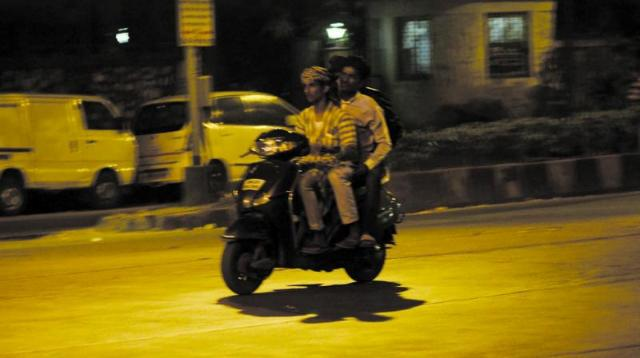licensePlate: (239, 178, 268, 193)
motorcycle: (221, 50, 406, 296)
withoutHelmet: (301, 65, 333, 109), (339, 57, 373, 98)
